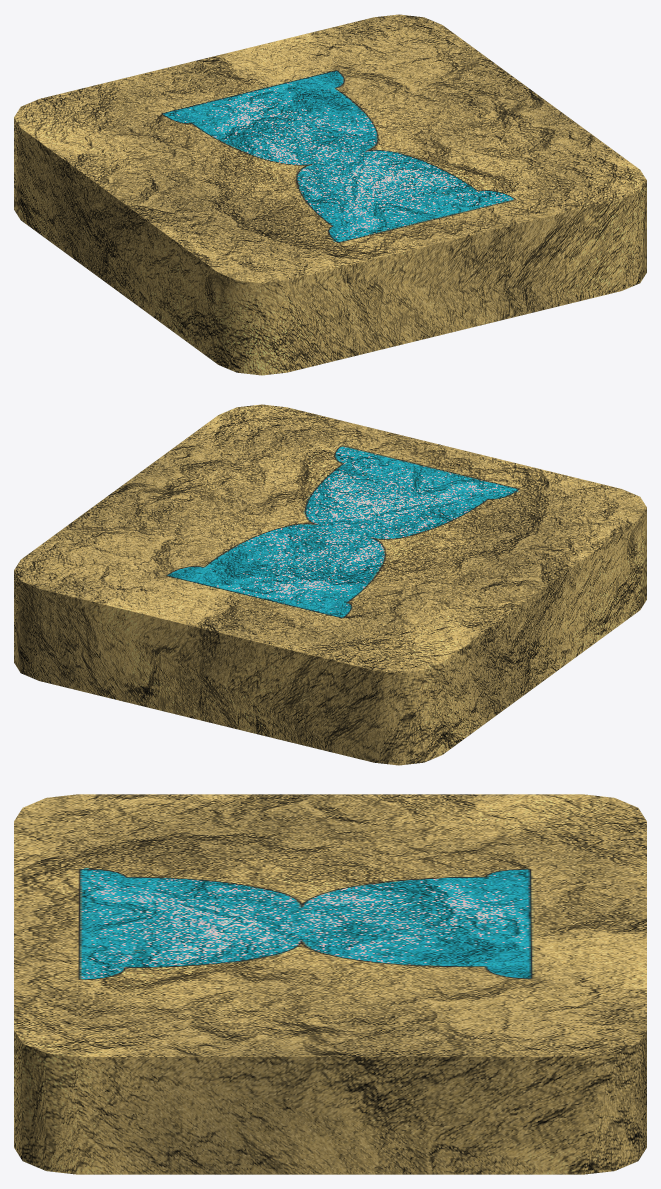
File: Time_tile.fbx
3 views of the same model, one above another, from view 1: azimuth 30°, elevation 25°; view 2: azimuth 150°, elevation 25°; view 3: azimuth 270°, elevation 25° (orthographic). The views are drawn at different scales.
Parts seen in each view (by area): view 1: flat_tile:pCube1; view 2: flat_tile:pCube1; view 3: flat_tile:pCube1.
Boxes of the visible parts, <box> form: flat_tile:pCube1: <box>14,14,646,375</box>; flat_tile:pCube1: <box>14,404,646,765</box>; flat_tile:pCube1: <box>14,794,646,1174</box>.
Size of the model in its own units: 2 by 0.4186 by 2.04.
Materials: 1 (1 with a texture image).
